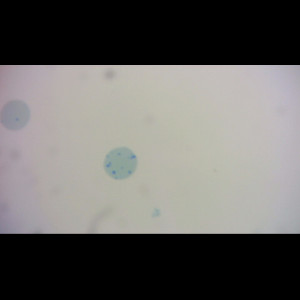aggregate reticulocyte: (103, 146, 139, 181)
punctate reticulocyte: (1, 98, 32, 132)
